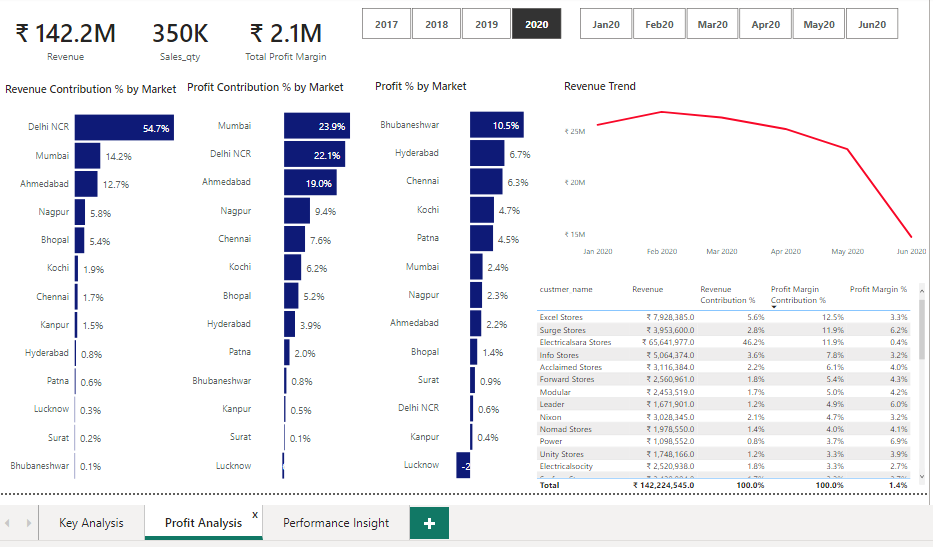

Layout of this report page (visuals, bound fields, positions):
{"tool":"powerbi","page":{"name":"Profit Analysis","canvas":[1500,800],"ordinal":1},"visuals":[{"type":"card","fields":{"Values":["Measures Table.Revenue"]},"box":[9.7,22.6,195.2,90.3],"z":0},{"type":"card","fields":{"Values":["Measures Table.Sales_qty"]},"box":[211.3,22.6,161.3,90.3],"z":1000},{"type":"barChart","title":"Profit %  by Market","fields":{"Y":["Measures Table.Profit Margin %"],"Category":["sales markets.markets_name"]},"box":[601.6,130.6,287.1,669.4],"z":2000},{"type":"barChart","title":"Profit Contribution % by Market","fields":{"Y":["Measures Table.Profit Margin Contribution %"],"Category":["sales markets.markets_name"]},"box":[298.4,132.3,300,667.7],"z":3000},{"type":"slicer","fields":{"Values":["sales date.year"]},"box":[559.7,11.3,371,62.9],"z":4000},{"type":"slicer","fields":{"Values":["sales date.cy_date"]},"box":[911.3,11.3,562.9,62.9],"z":5000},{"type":"tableEx","title":"Top 5 Customers","fields":{"Values":["sales customers.custmer_name","Measures Table.Revenue","Measures Table.Revenue Contribution %","Measures Table.Profit Margin Contribution %","Measures Table.Profit Margin %"]},"box":[861.3,456.5,637.1,343.5],"z":6000},{"type":"lineChart","title":"Revenue Trend","fields":{"Y":["Measures Table.Revenue"],"Category":["sales date.cy_date.Variation.Date Hierarchy.Year","sales date.cy_date.Variation.Date Hierarchy.Quarter","sales date.cy_date.Variation.Date Hierarchy.Month","sales date.cy_date.Variation.Date Hierarchy.Day"]},"box":[906.5,130.6,593.5,298.4],"z":8000},{"type":"card","fields":{"Values":["Measures Table.Total Profit Margin1"]},"box":[382.3,22.6,161.3,90.3],"z":8001},{"type":"barChart","title":"Revenue Contribution  % by Market","fields":{"Y":["Measures Table.Revenue Contribution %"],"Category":["sales markets.markets_name"]},"box":[4.8,135.5,298.4,664.5],"z":8002}]}

Visuals, with their boxes on the page's 1500x800 design canvas (x1, y1, x2, y2). These are canvas units, not pixel positions in the 933x547 screenshot, which may show the page scaled, cropped or inside an application window:
card - Measures Table.Revenue: (left=10, top=23, right=205, bottom=113)
card - Measures Table.Sales_qty: (left=211, top=23, right=373, bottom=113)
"Profit %  by Market" barChart: (left=602, top=131, right=889, bottom=800)
"Profit Contribution % by Market" barChart: (left=298, top=132, right=598, bottom=800)
slicer - sales date.year: (left=560, top=11, right=931, bottom=74)
slicer - sales date.cy_date: (left=911, top=11, right=1474, bottom=74)
"Top 5 Customers" tableEx: (left=861, top=456, right=1498, bottom=800)
"Revenue Trend" lineChart: (left=906, top=131, right=1500, bottom=429)
card - Measures Table.Total Profit Margin1: (left=382, top=23, right=544, bottom=113)
"Revenue Contribution  % by Market" barChart: (left=5, top=136, right=303, bottom=800)
